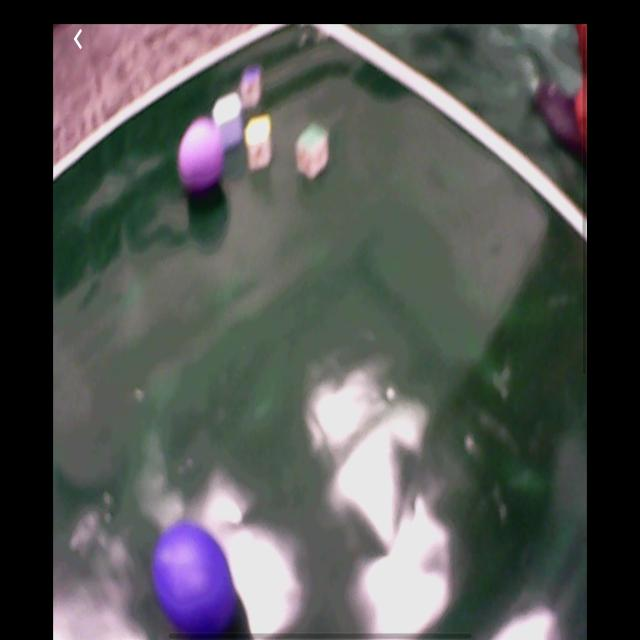ball: (154, 525, 235, 635), (179, 118, 224, 189)
